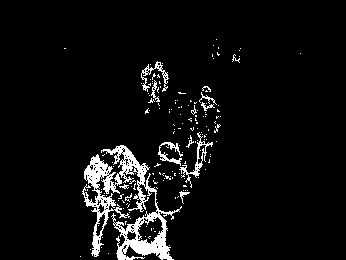person: (83, 144, 117, 256), (148, 141, 190, 217), (118, 215, 172, 260), (113, 157, 145, 232), (194, 86, 220, 167), (141, 61, 169, 112), (174, 84, 196, 148)
